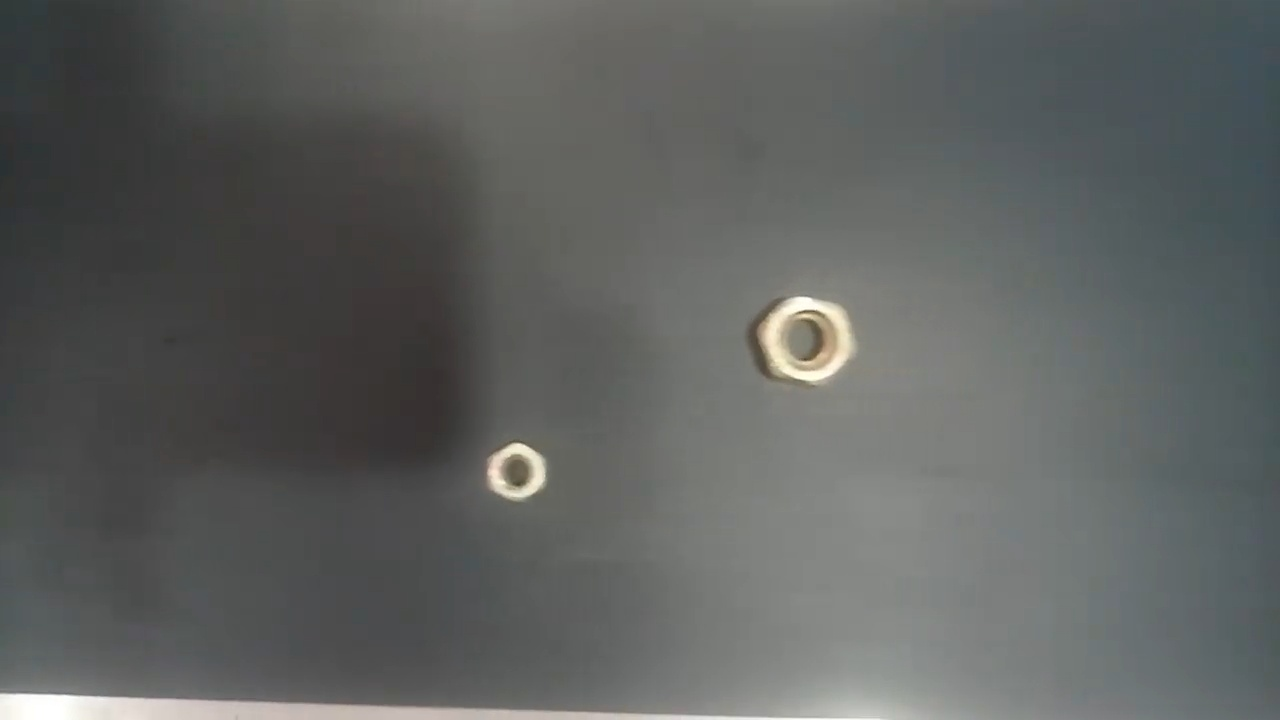Bolt: (752, 292, 856, 388), (483, 438, 550, 502)
